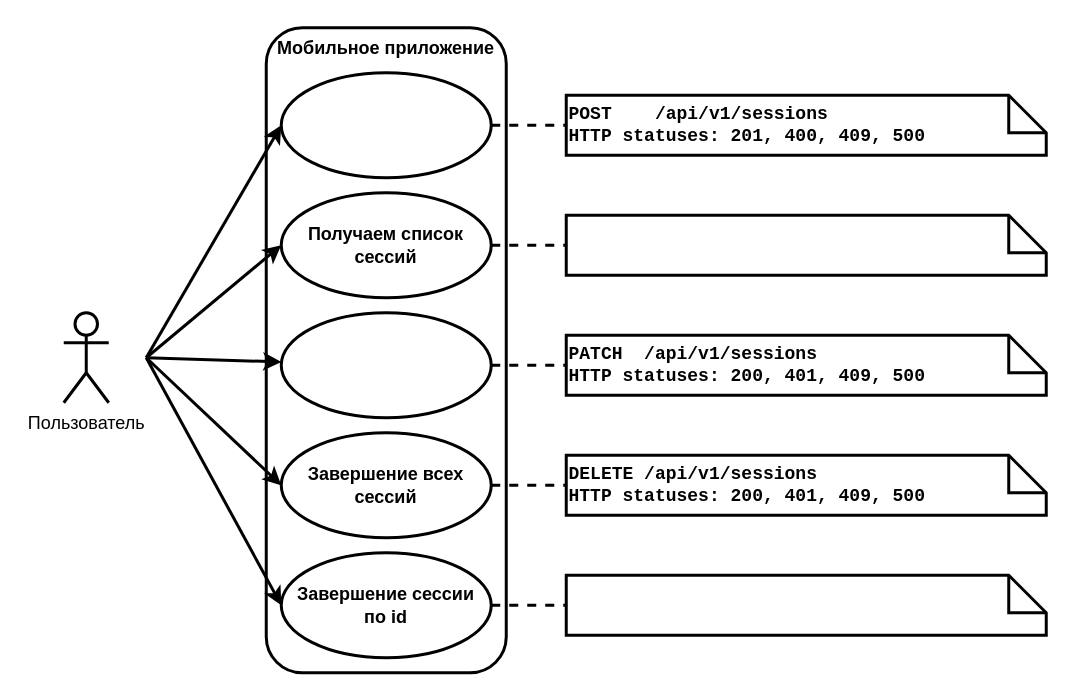
Some shapes in this 1073 by 699 pixel diagram are drawn without their labels. The centre of each missing label's shape, as x and y in pixels:
"DELETE /api/v1/sessions/:id HTTP statuses: 200, 401, 404, 409, 500" goes at point 805,604.
"GET /api/v1/sessions HTTP statuses: 200, 401, 409, 500" goes at point 805,244.
"Вход в аккаунт" goes at point 385,124.
"Обновляем токен доступа" goes at point 385,364.
